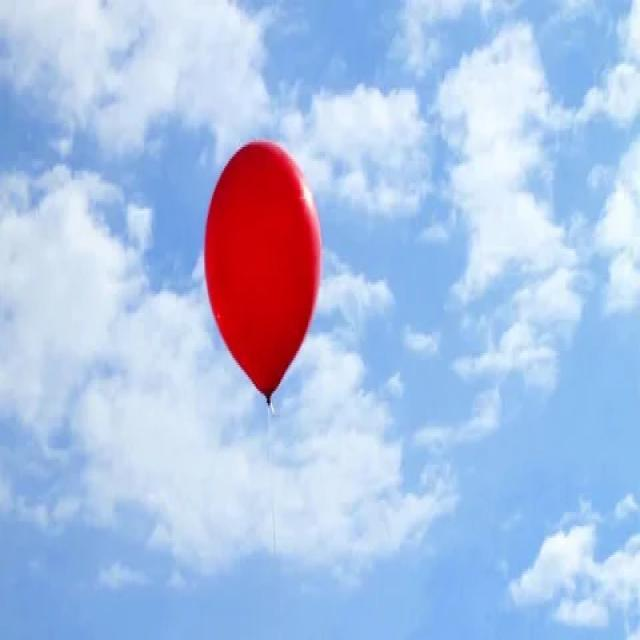balloon: (200, 134, 326, 416)
